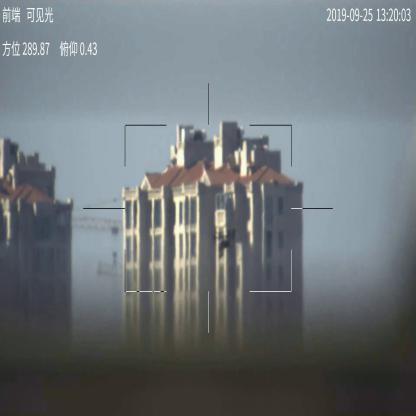uav: (212, 228, 236, 260)
